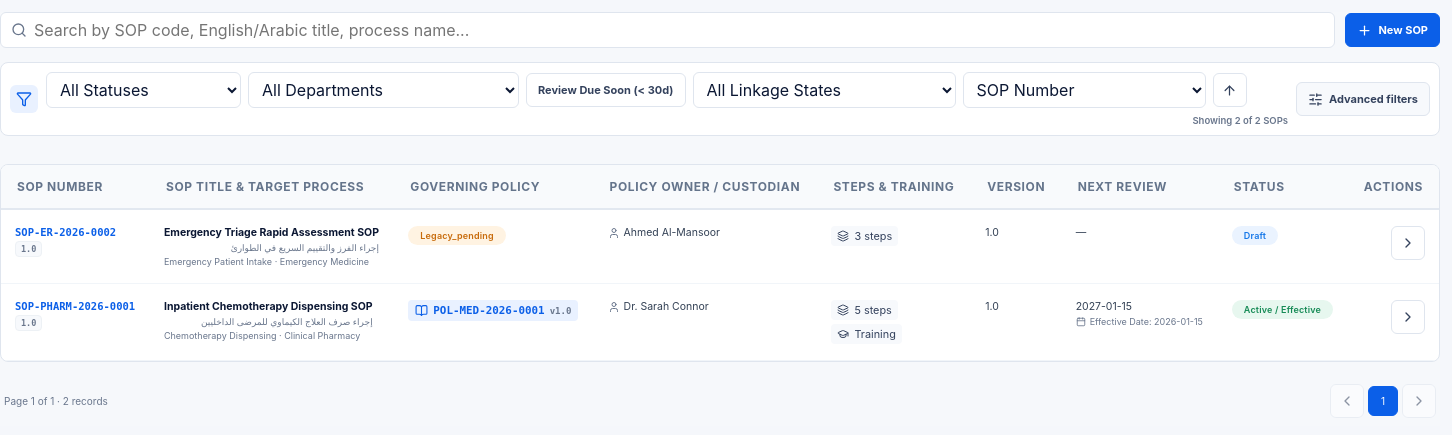
it: GRC v1.4-E1 / E1R Governed SOP Register & Structured Content Suite › 2. SopRegister Component › filters SOPs by search term
The image size is (1452, 435).
Type "Chemotherapy" into the field with placeholder "Search by SOP code, English/Arabic title, process name..." at (680, 30), box [34,14,1326,46]
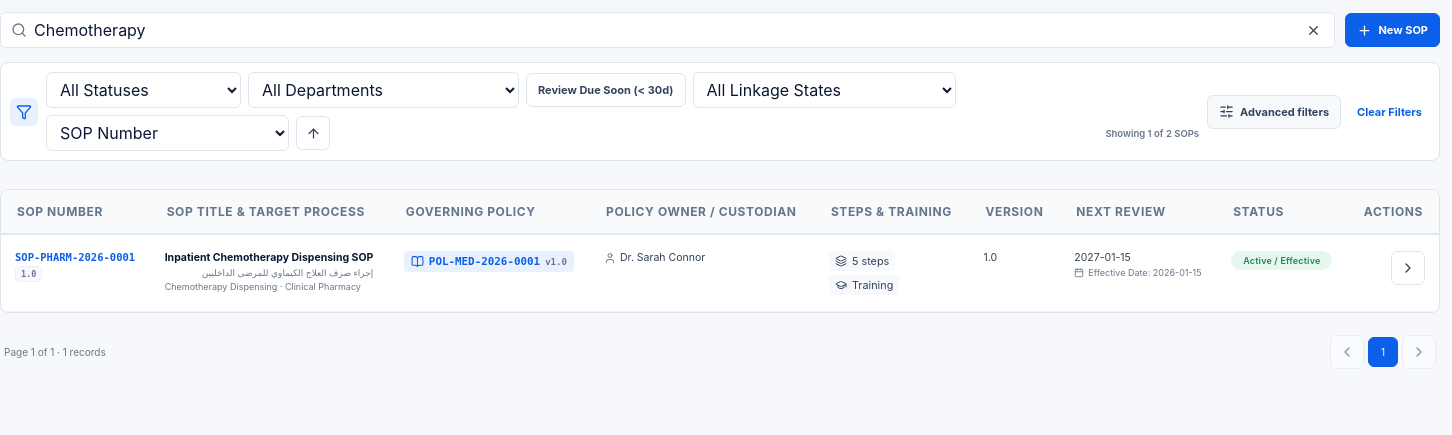
Expected: the text "Inpatient Chemotherapy Dispensing SOP" is shown, [165,251,373,264]
Expected: the button "Emergency Triage Rapid Assessment SOP" is gone
